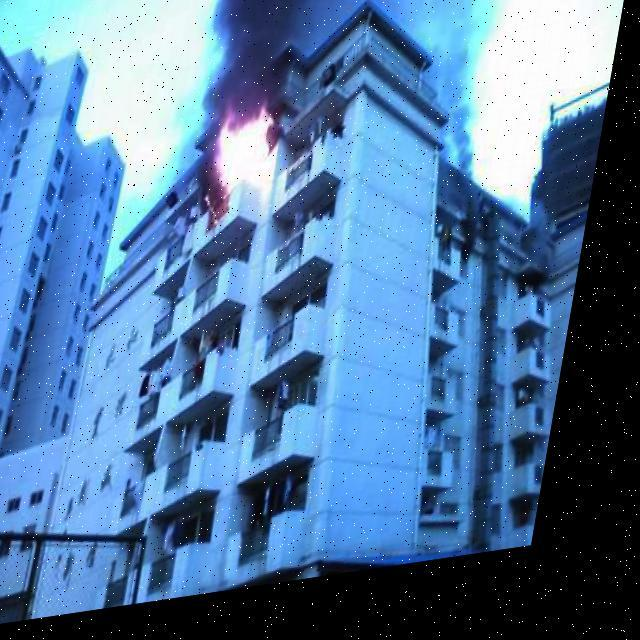Fire: (210, 101, 288, 208)
